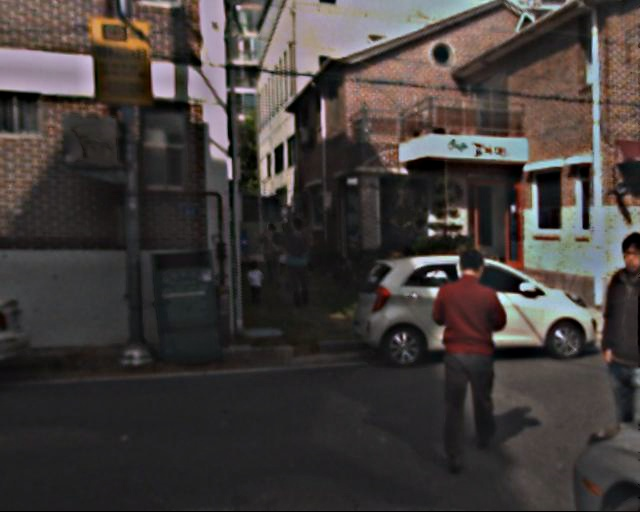person: (422, 248, 514, 462), (578, 234, 640, 477), (282, 218, 319, 309), (260, 222, 285, 283), (244, 261, 267, 308)
